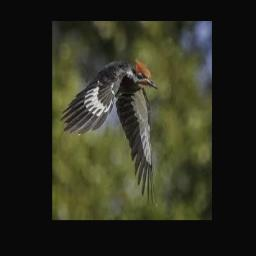Woodpecker: (60, 58, 158, 207)
